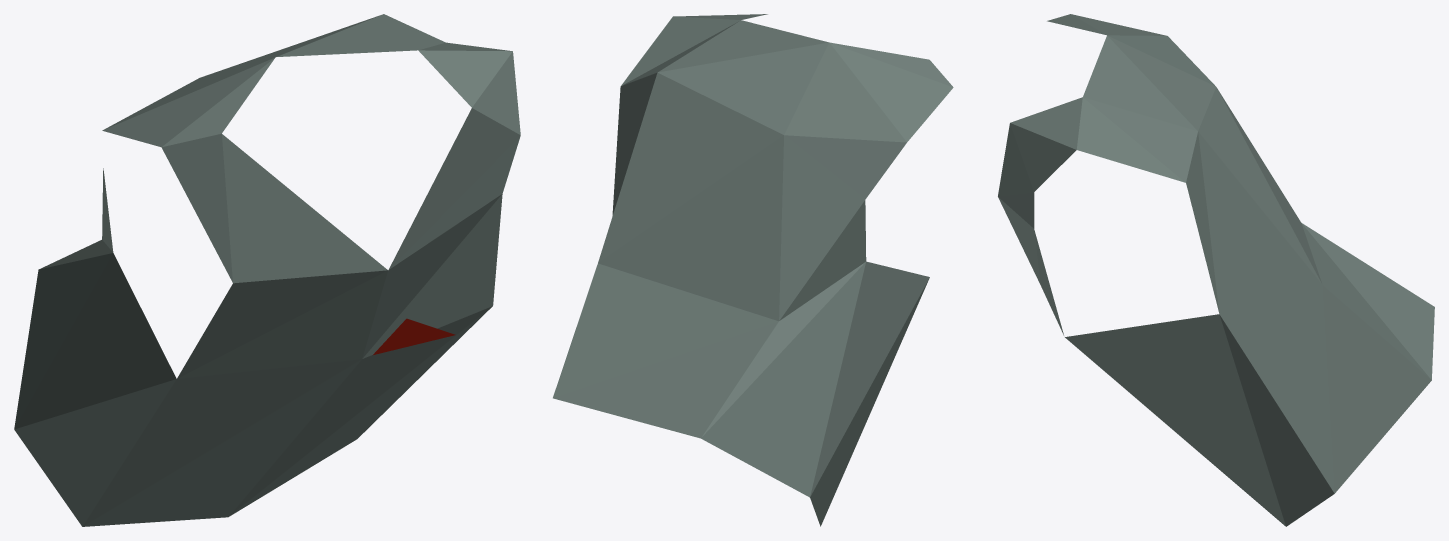
3 renders of one model, left to right at view 1: azimuth 30°, elevation 25°; view 2: azimuth 150°, elevation 25°; view 3: azimuth 270°, elevation 25°, orthographic. The views are drawn at different scales.
Size of the model in its own units: 0.4875 by 0.7071 by 0.6593.
Materials: 2 (2 with a texture image).
